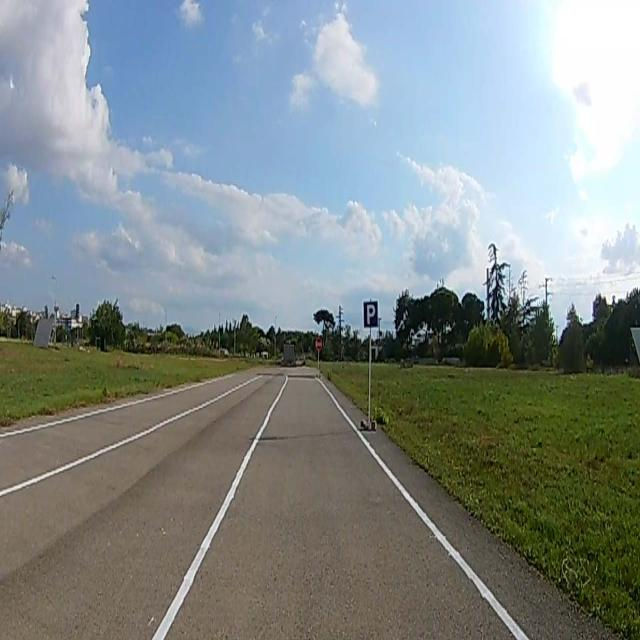park: (364, 301, 378, 327)
